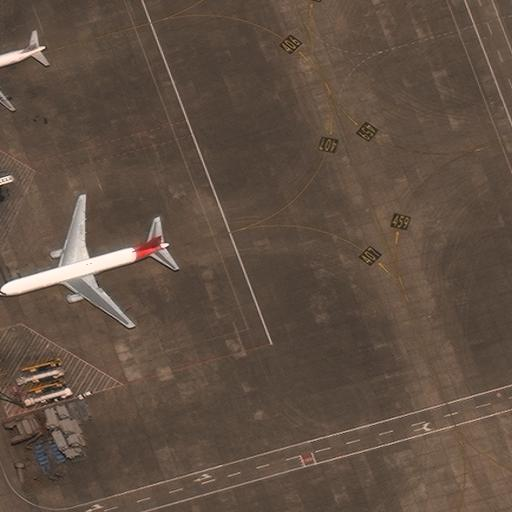Large Civil Transport: (0, 193, 168, 328)
Medium Civil Transport: (0, 26, 47, 110)
